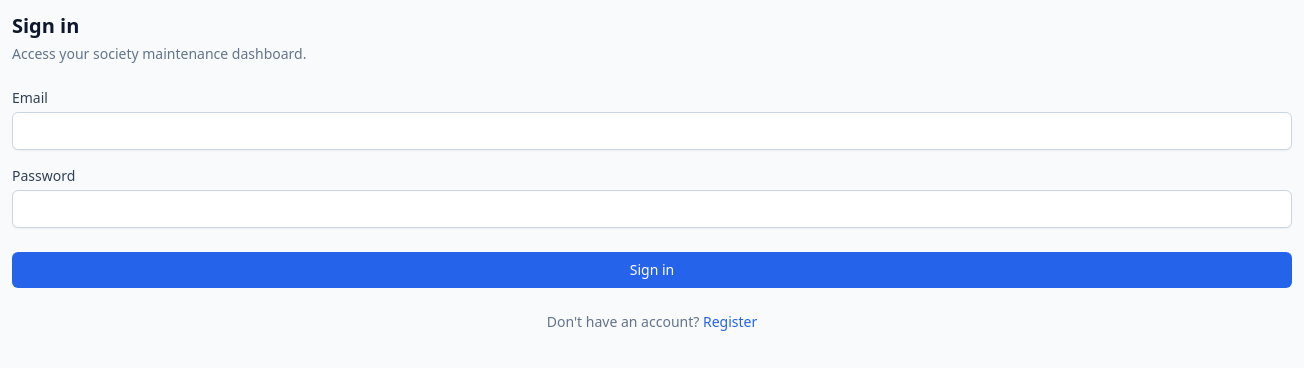
Test: Login validation › shows a validation error for an invalid email
Type "not-an-email" into the field labelled "Email". click: (652, 131)
box: x1=12 y1=112 x2=1292 y2=150
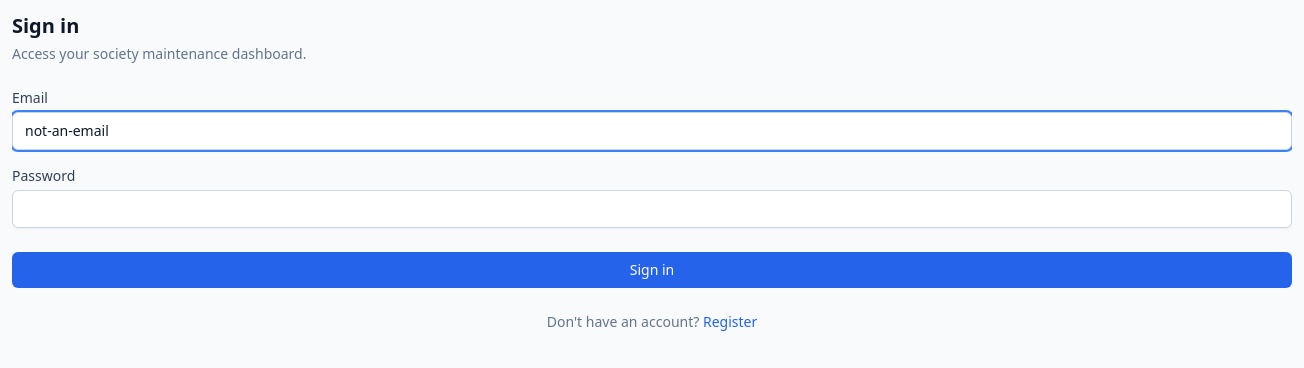
Type "somepassword" into the password field labelled "Password". click: (652, 209)
box: x1=12 y1=190 x2=1292 y2=228
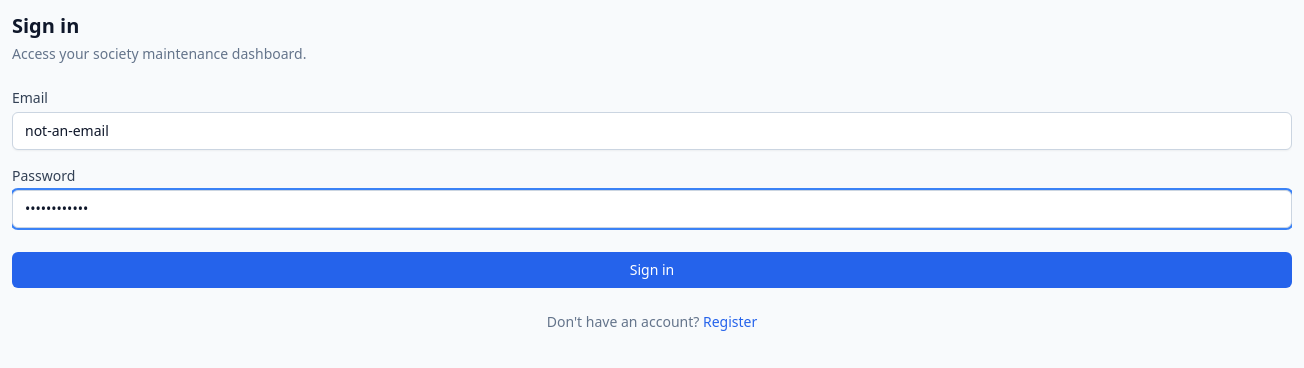
Click the button "Sign in". click: (652, 270)
box: x1=12 y1=252 x2=1292 y2=288
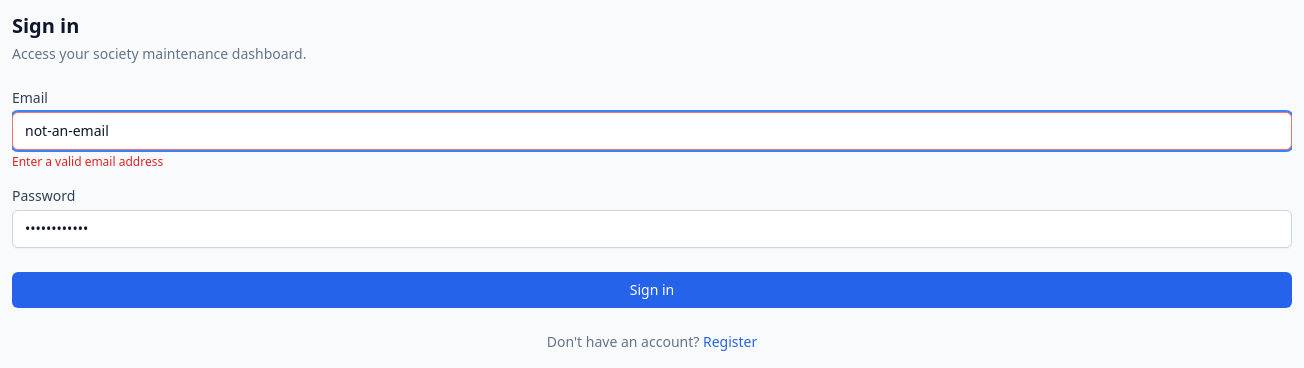
Now the text "Enter a valid email address" is shown, box x1=12 y1=153 x2=163 y2=170
